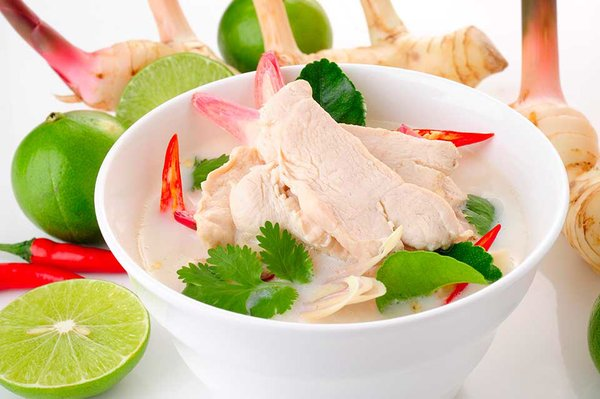sushi: (93, 49, 581, 391)
taco: (0, 277, 150, 396), (9, 109, 125, 246)
